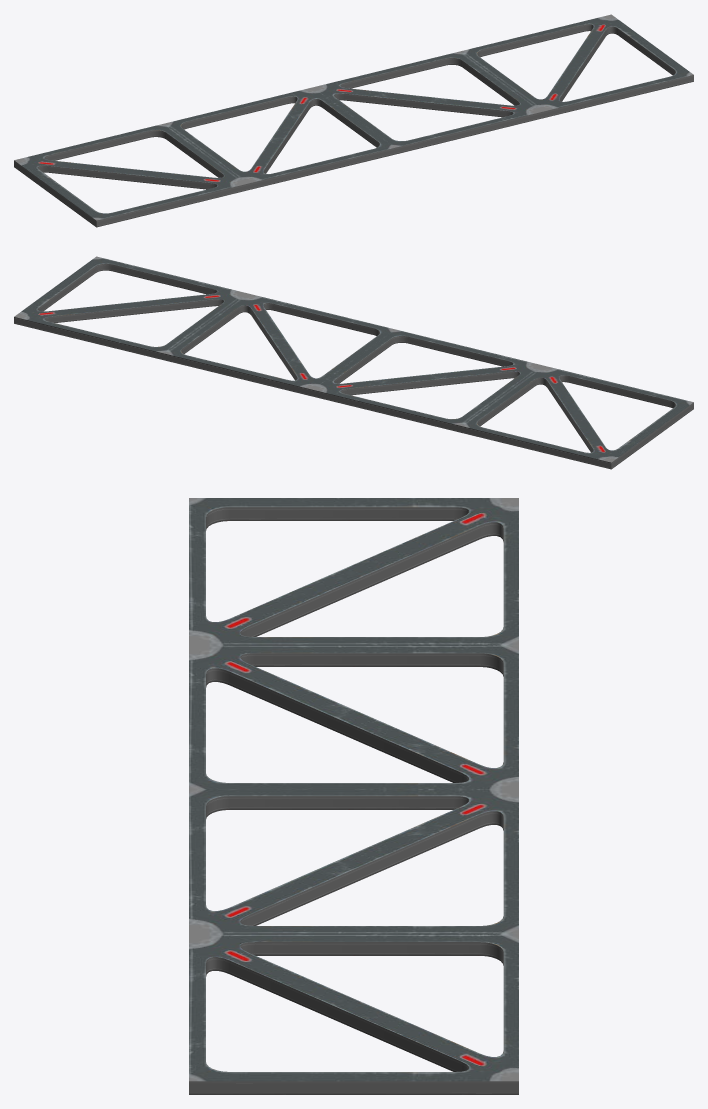
File: sf_beam.glb
3 views of the same model, one above another, from view 1: azimuth 30°, elevation 25°; view 2: azimuth 150°, elevation 25°; view 3: azimuth 270°, elevation 25° (orthographic). The views are drawn at different scales.
Visible parts, largest first — view 1: Column_MetalSupport; view 2: Column_MetalSupport; view 3: Column_MetalSupport.
Boxes of the visible parts, x1,y1,x2,y2 form: Column_MetalSupport: (14,14,693,227); Column_MetalSupport: (14,256,693,469); Column_MetalSupport: (189,498,518,1094).
Bounding box in the file's own units: 4 × 0.044 × 0.9566.
2 materials, 2 textured.
